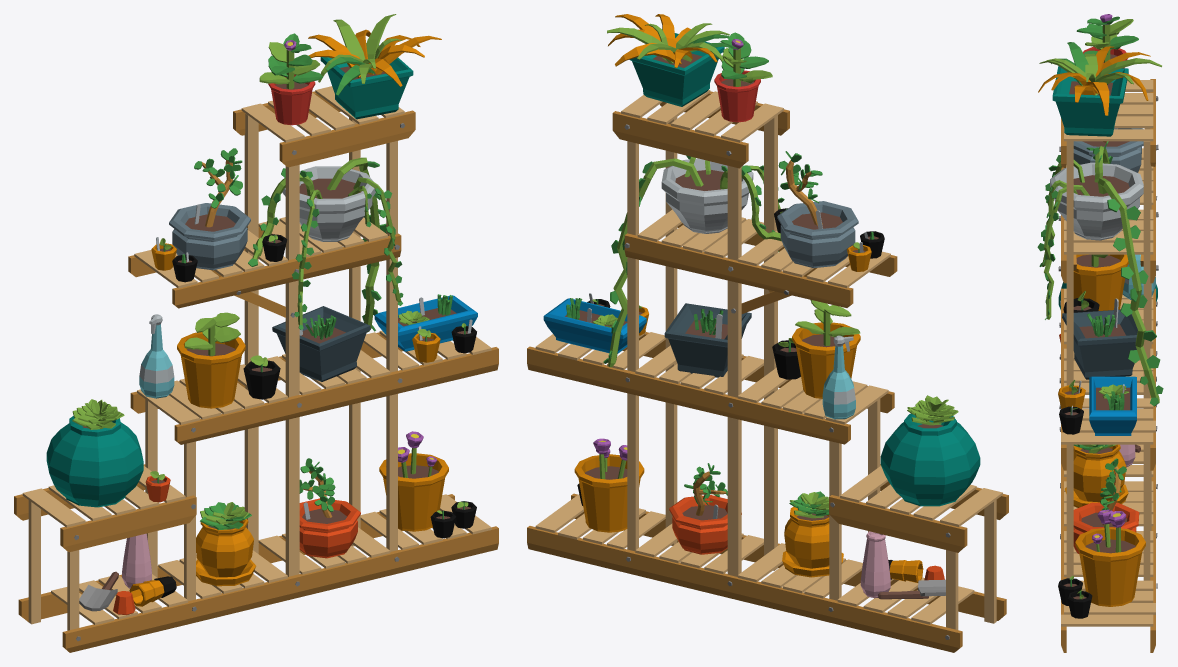
The picture shows the model from 3 angles, left to right: view 1: azimuth 30°, elevation 25°; view 2: azimuth 150°, elevation 25°; view 3: azimuth 270°, elevation 25°; orthographic projection.
Parts seen in each view (by area): view 1: node_MeshObject-183377920-PolyPaper13, node_MeshObject960780288-PolyPaper10, node_MeshObject388701184-PolyPaper20, node_MeshObject1532859392-PolyPaper9; view 2: node_MeshObject-183377920-PolyPaper13, node_MeshObject960780288-PolyPaper10, node_MeshObject388701184-PolyPaper20, node_MeshObject1532859392-PolyPaper9; view 3: node_MeshObject-183377920-PolyPaper13, node_MeshObject960780288-PolyPaper10, node_MeshObject388701184-PolyPaper20.
Part boxes in pixels (x1,y1,x2,y2): node_MeshObject-183377920-PolyPaper13: (14, 14, 498, 652); node_MeshObject960780288-PolyPaper10: (46, 294, 477, 614); node_MeshObject388701184-PolyPaper20: (139, 148, 403, 408); node_MeshObject1532859392-PolyPaper9: (72, 399, 117, 429); node_MeshObject-183377920-PolyPaper13: (527, 14, 1008, 652); node_MeshObject960780288-PolyPaper10: (543, 293, 980, 599); node_MeshObject388701184-PolyPaper20: (603, 151, 884, 419); node_MeshObject1532859392-PolyPaper9: (907, 395, 958, 425); node_MeshObject-183377920-PolyPaper13: (1038, 14, 1161, 652); node_MeshObject960780288-PolyPaper10: (1058, 282, 1157, 618); node_MeshObject388701184-PolyPaper20: (1037, 128, 1163, 406).
Bounding box in the file's own units: 1.84 × 2.16 × 0.4516.
